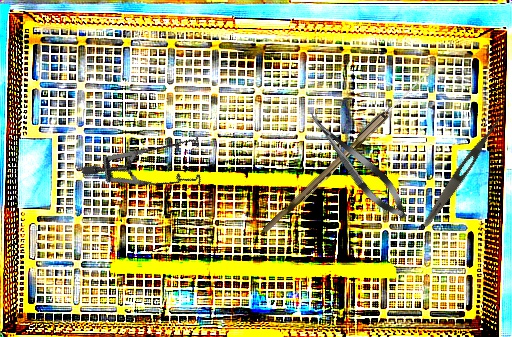Dressing Forceps: (420, 106, 509, 230)
Micro Scissor: (299, 103, 416, 227)
Speculum: (79, 95, 220, 225)
Surgical Spoon: (262, 68, 431, 237)
